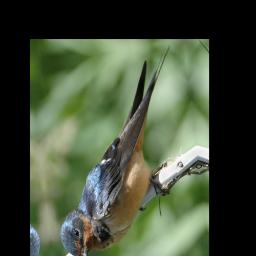Swallow: (40, 44, 195, 256)
